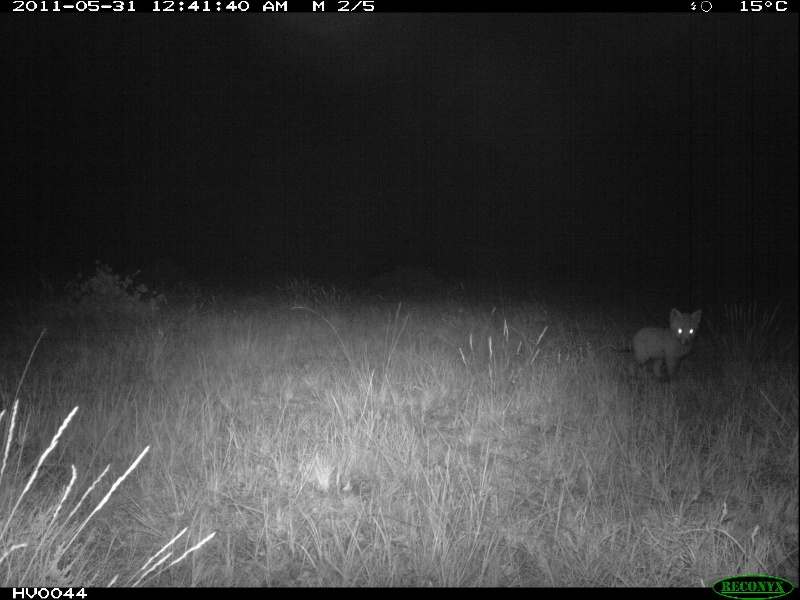fox: (614, 307, 707, 379)
